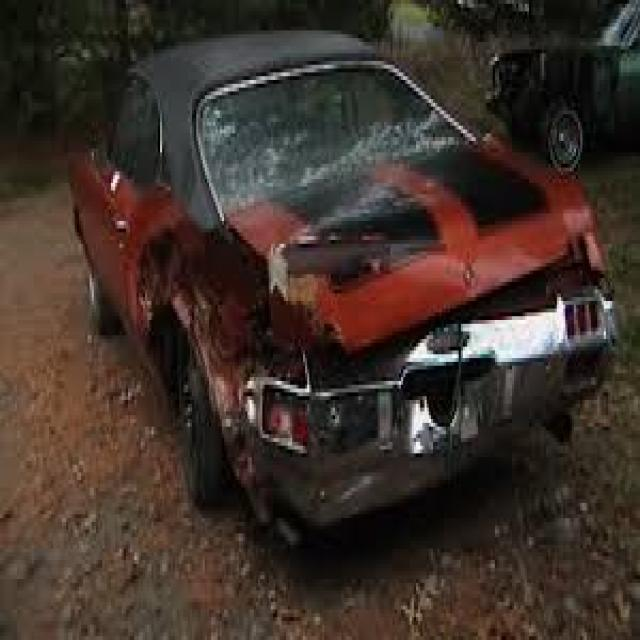minor: (467, 192, 581, 410)
severe: (74, 193, 441, 516)
